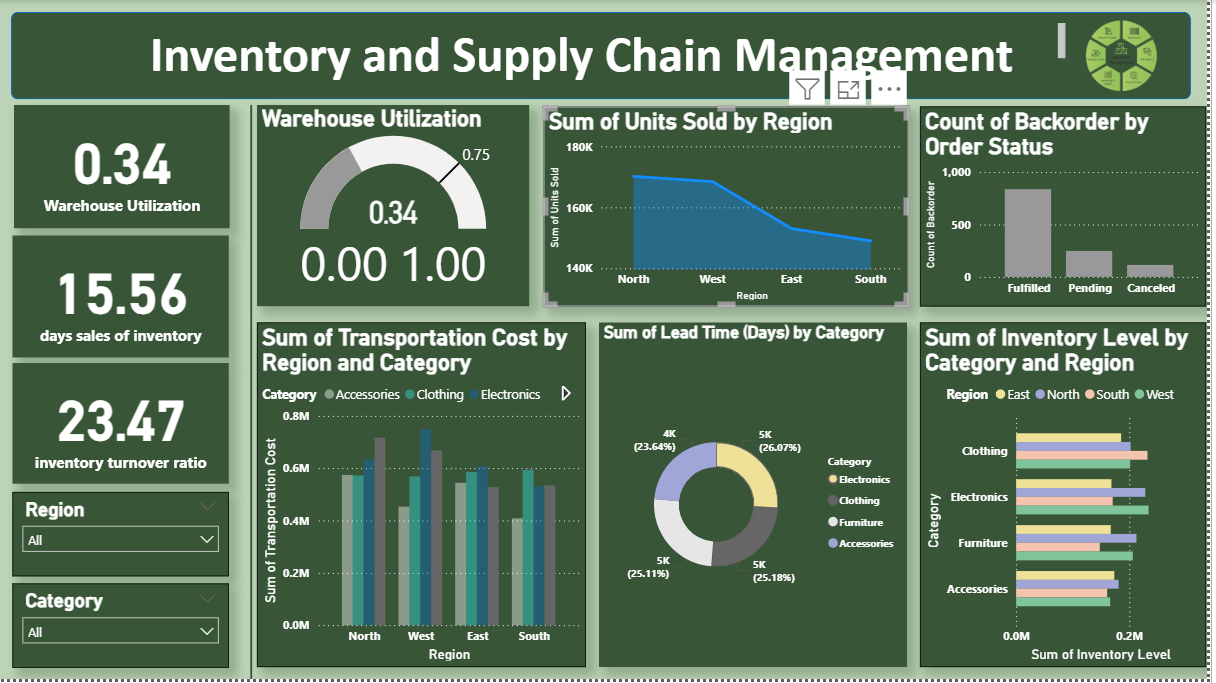

This screenshot's page, from the dashboard's own definition file:
{"tool":"powerbi","page":{"name":"Page 1","canvas":[1280,720],"ordinal":0},"visuals":[{"type":"shape","box":[13.2,13.2,1251,92.6],"z":0},{"type":"textbox","box":[108.2,19.1,1027.5,79.5],"z":1000},{"type":"image","box":[1115,6.4,149.5,105],"z":2000},{"type":"shape","box":[260.8,111.5,13.2,608.5],"z":3000},{"type":"card","fields":{"Values":["Inventory_SupplyChain_Dataset.Warehouse Utilization"]},"box":[15.1,111.5,228.7,130.4],"z":4000},{"type":"card","fields":{"Values":["Inventory_SupplyChain_Dataset.days sales of inventory"]},"box":[14,249,229,129],"z":5000},{"type":"card","fields":{"Values":["Inventory_SupplyChain_Dataset.inventory turnover ratio"]},"box":[15,385,229,128],"z":6000},{"type":"slicer","fields":{"Values":["Inventory_SupplyChain_Dataset.Region"]},"box":[15,521,229,89],"z":7000},{"type":"slicer","fields":{"Values":["Inventory_SupplyChain_Dataset.Category"]},"box":[14,619,229,89],"z":8000},{"type":"gauge","fields":{"Y":["Inventory_SupplyChain_Dataset.Warehouse Utilization"]},"box":[273.3,111.7,288.3,213.3],"z":9000},{"type":"clusteredColumnChart","fields":{"Y":["Sum(Inventory_SupplyChain_Dataset.Transportation Cost)"],"Category":["Inventory_SupplyChain_Dataset.Region"],"Series":["Inventory_SupplyChain_Dataset.Category"]},"box":[273.3,341.7,348.3,365],"z":10000},{"type":"lineChart","fields":{"Y":["Sum(Inventory_SupplyChain_Dataset.Units Sold)"],"Category":["Inventory_SupplyChain_Dataset.Region"]},"box":[576.7,113.3,386.7,211.7],"z":11000},{"type":"donutChart","fields":{"Y":["Sum(Inventory_SupplyChain_Dataset.Lead Time (Days))"],"Category":["Inventory_SupplyChain_Dataset.Category"]},"box":[636.7,341.7,326.7,365],"z":12000},{"type":"columnChart","fields":{"Category":["Inventory_SupplyChain_Dataset.Order Status"],"Y":["CountNonNull(Inventory_SupplyChain_Dataset.Backorder)"]},"box":[976.7,113.3,303.3,211.7],"z":13000},{"type":"clusteredBarChart","fields":{"Y":["Sum(Inventory_SupplyChain_Dataset.Inventory Level)"],"Category":["Inventory_SupplyChain_Dataset.Category"],"Series":["Inventory_SupplyChain_Dataset.Region"]},"box":[977,342,303,365],"z":14000}]}

Visuals, with their boxes in screenshot pixels (x1, y1, x2, y2), scaled from the page's 1280x720 canvas onto the 1216x683 screenshot:
shape: (left=13, top=13, right=1201, bottom=100)
textbox: (left=103, top=18, right=1079, bottom=94)
image: (left=1059, top=6, right=1201, bottom=106)
shape: (left=248, top=106, right=260, bottom=682)
card - Inventory_SupplyChain_Dataset.Warehouse Utilization: (left=14, top=106, right=232, bottom=229)
card - Inventory_SupplyChain_Dataset.days sales of inventory: (left=13, top=236, right=231, bottom=359)
card - Inventory_SupplyChain_Dataset.inventory turnover ratio: (left=14, top=365, right=232, bottom=487)
slicer - Inventory_SupplyChain_Dataset.Region: (left=14, top=494, right=232, bottom=579)
slicer - Inventory_SupplyChain_Dataset.Category: (left=13, top=587, right=231, bottom=672)
gauge - Inventory_SupplyChain_Dataset.Warehouse Utilization: (left=260, top=106, right=534, bottom=308)
clusteredColumnChart - Sum(Inventory_SupplyChain_Dataset.Transportation Cost) x Inventory_SupplyChain_Dataset.Region: (left=260, top=324, right=591, bottom=670)
lineChart - Sum(Inventory_SupplyChain_Dataset.Units Sold) x Inventory_SupplyChain_Dataset.Region: (left=548, top=107, right=915, bottom=308)
donutChart - Sum(Inventory_SupplyChain_Dataset.Lead Time (Days)) x Inventory_SupplyChain_Dataset.Category: (left=605, top=324, right=915, bottom=670)
columnChart - Inventory_SupplyChain_Dataset.Order Status x CountNonNull(Inventory_SupplyChain_Dataset.Backorder): (left=928, top=107, right=1215, bottom=308)
clusteredBarChart - Sum(Inventory_SupplyChain_Dataset.Inventory Level) x Inventory_SupplyChain_Dataset.Category: (left=928, top=324, right=1215, bottom=671)
